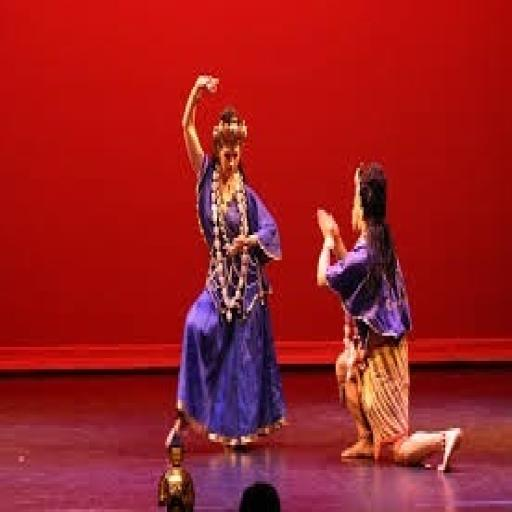dancing: (314, 157, 466, 478), (165, 70, 289, 453)
